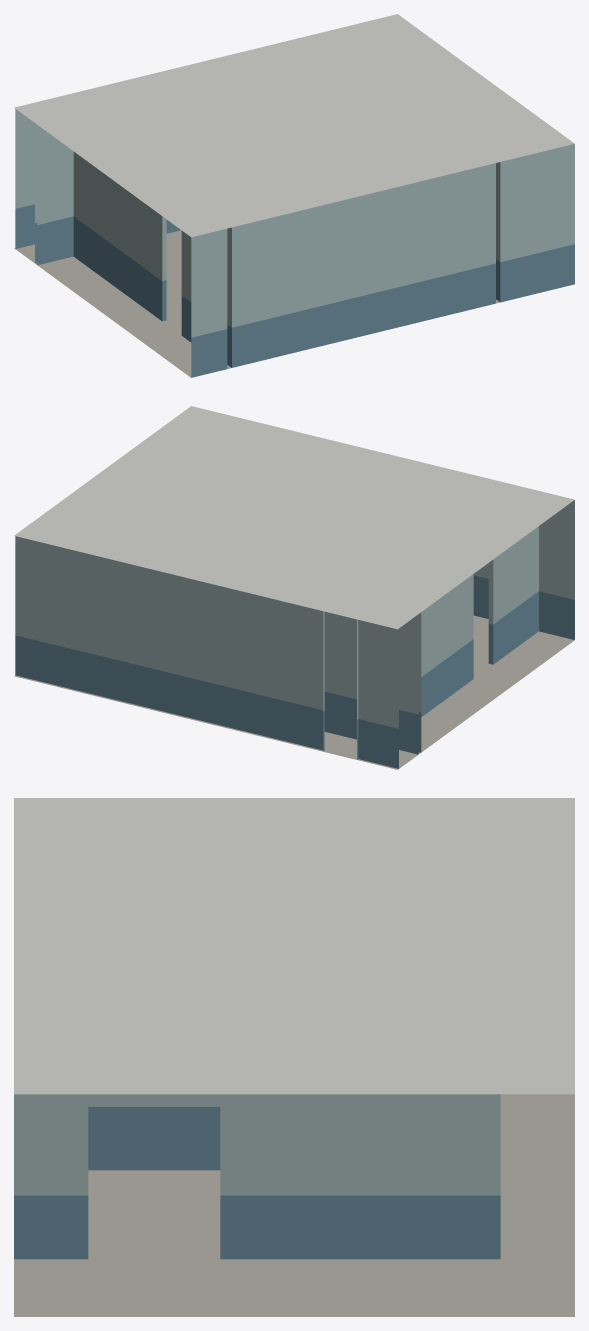
The model's file is chunk_3_4.glb.
3 views of the same model, one above another, from view 1: azimuth 30°, elevation 25°; view 2: azimuth 150°, elevation 25°; view 3: azimuth 270°, elevation 25° (orthographic). The views are drawn at different scales.
Parts seen in each view (by area): view 1: chunk_3_4; view 2: chunk_3_4; view 3: chunk_3_4.
Part boxes in pixels (bbox=[...]): chunk_3_4: bbox=[14, 14, 574, 377]; chunk_3_4: bbox=[14, 406, 574, 769]; chunk_3_4: bbox=[14, 798, 574, 1316].
Bounding box in the file's own units: 12 × 4.2 × 9.6.
